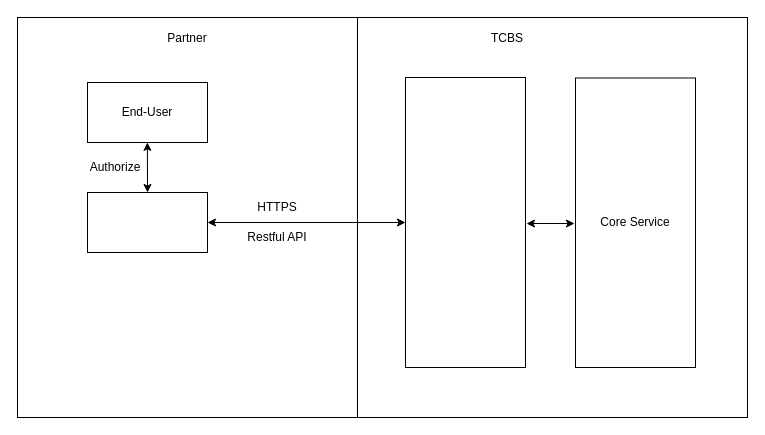
Some shapes in this 765 by 435 pixel diagram are drawn without their labels. Here are the shapes that lost their labels. From the top down, the centre of each, then its label:
At pixel 147 222: "Partner App".
At pixel 465 222: "TCBS Gateway".
